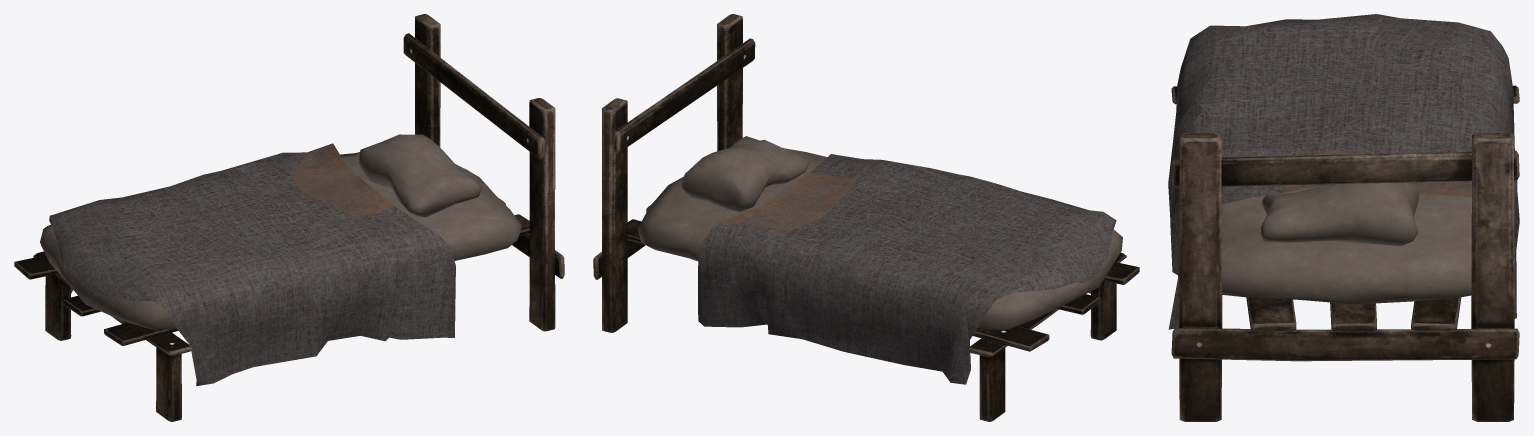
Rendered from BedPrimitive.fbx.
The picture shows the model from 3 angles, left to right: view 1: azimuth 30°, elevation 25°; view 2: azimuth 150°, elevation 25°; view 3: azimuth 270°, elevation 25°; orthographic projection. The views are drawn at different scales.
Visible parts, largest first — view 1: SM_BedPrimitive.mo; view 2: SM_BedPrimitive.mo; view 3: SM_BedPrimitive.mo.
Part boxes in pixels (x1,y1,x2,y2): SM_BedPrimitive.mo: (14, 14, 564, 421); SM_BedPrimitive.mo: (593, 14, 1139, 421); SM_BedPrimitive.mo: (1168, 14, 1519, 421).
Bounding box in the file's own units: 292 × 144 × 161.
1 material, 1 textured.
